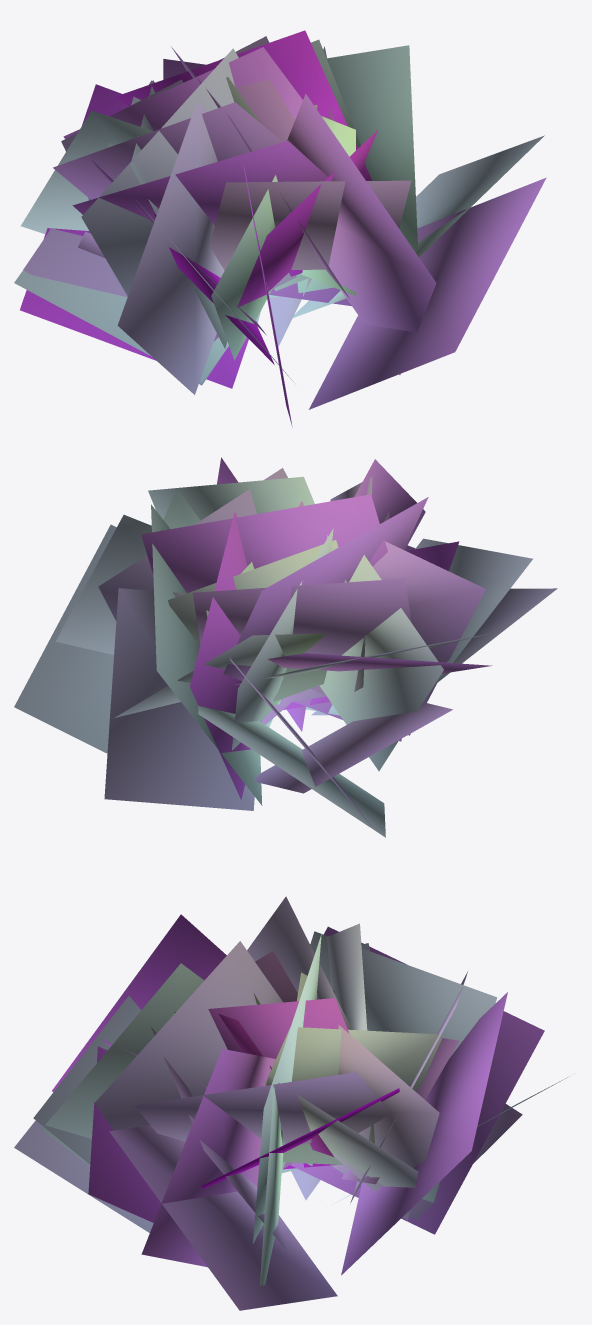
File: busch_bluehend.glb
3 renders of one model, top to bottom at view 1: azimuth 30°, elevation 25°; view 2: azimuth 150°, elevation 25°; view 3: azimuth 270°, elevation 25°, orthographic. The views are drawn at different scales.
Parts seen in each view (by area): view 1: busch_bluehend_lod0; view 2: busch_bluehend_lod0; view 3: busch_bluehend_lod0.
Boxes of the visible parts, box(x1,y1,x2,y2) form: busch_bluehend_lod0: box(14, 30, 546, 427); busch_bluehend_lod0: box(14, 457, 557, 837); busch_bluehend_lod0: box(14, 896, 573, 1310).
Size of what is drawn, in the model's own units: 2.61 by 1.78 by 2.68.
